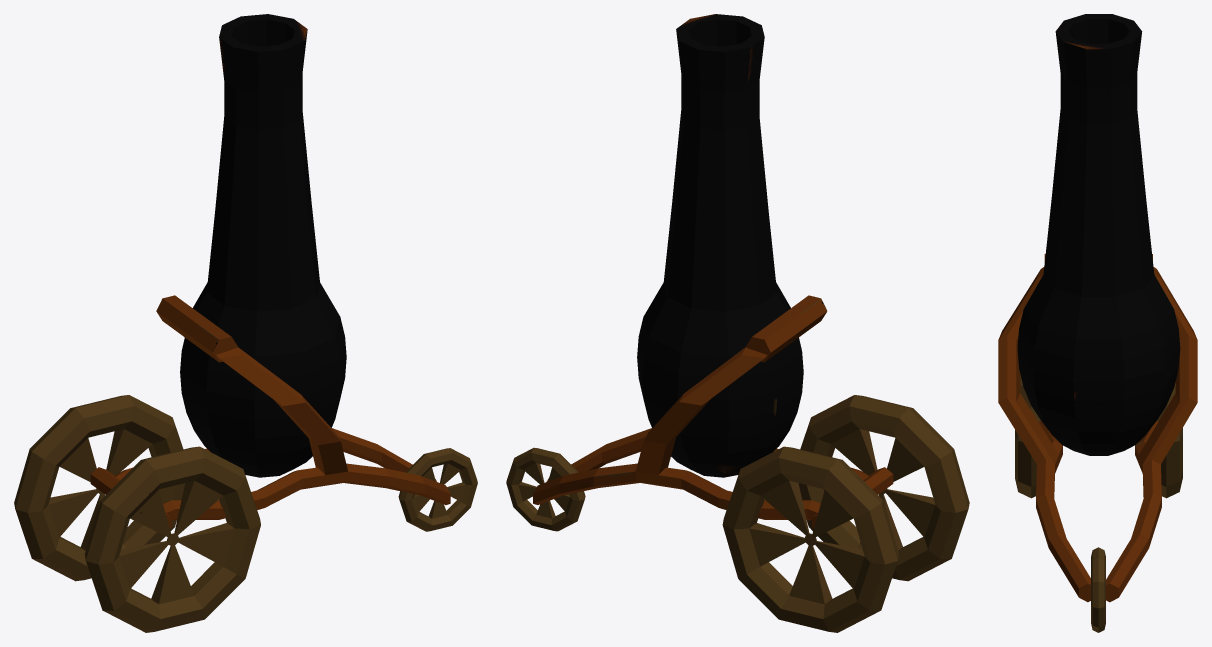
The model's file is Canon3.fbx.
3 renders of one model, left to right at view 1: azimuth 30°, elevation 25°; view 2: azimuth 150°, elevation 25°; view 3: azimuth 270°, elevation 25°, orthographic. The views are drawn at different scales.
Parts seen in each view (by area): view 1: Sphere.001, Sphere.002, Sphere.006, Sphere.004, Sphere.007, Sphere, Sphere.005; view 2: Sphere.001, Sphere.006, Sphere.002, Sphere.005, Sphere.007, Sphere, Sphere.004; view 3: Sphere.001, Sphere.004, Sphere.005, Sphere.002, Sphere.007, Sphere.006.
Boxes of the visible parts, <box> form: Sphere.001: <box>180,14,346,477</box>; Sphere.002: <box>84,446,260,632</box>; Sphere.006: <box>14,395,184,581</box>; Sphere.004: <box>163,347,450,520</box>; Sphere.007: <box>398,448,477,531</box>; Sphere: <box>156,295,237,362</box>; Sphere.005: <box>115,428,436,481</box>; Sphere.001: <box>637,14,803,477</box>; Sphere.006: <box>722,446,898,632</box>; Sphere.002: <box>798,395,969,581</box>; Sphere.005: <box>533,347,820,520</box>; Sphere.007: <box>506,447,585,531</box>; Sphere: <box>746,295,827,362</box>; Sphere.004: <box>546,428,868,481</box>; Sphere.001: <box>1017,14,1180,455</box>; Sphere.004: <box>998,267,1090,602</box>; Sphere.005: <box>1106,267,1197,602</box>; Sphere.002: <box>1015,374,1040,498</box>; Sphere.007: <box>1091,547,1105,632</box>; Sphere.006: <box>1157,382,1182,498</box>.
Bounding box in the file's own units: 804 × 969 × 341.
1 material, 1 textured.
